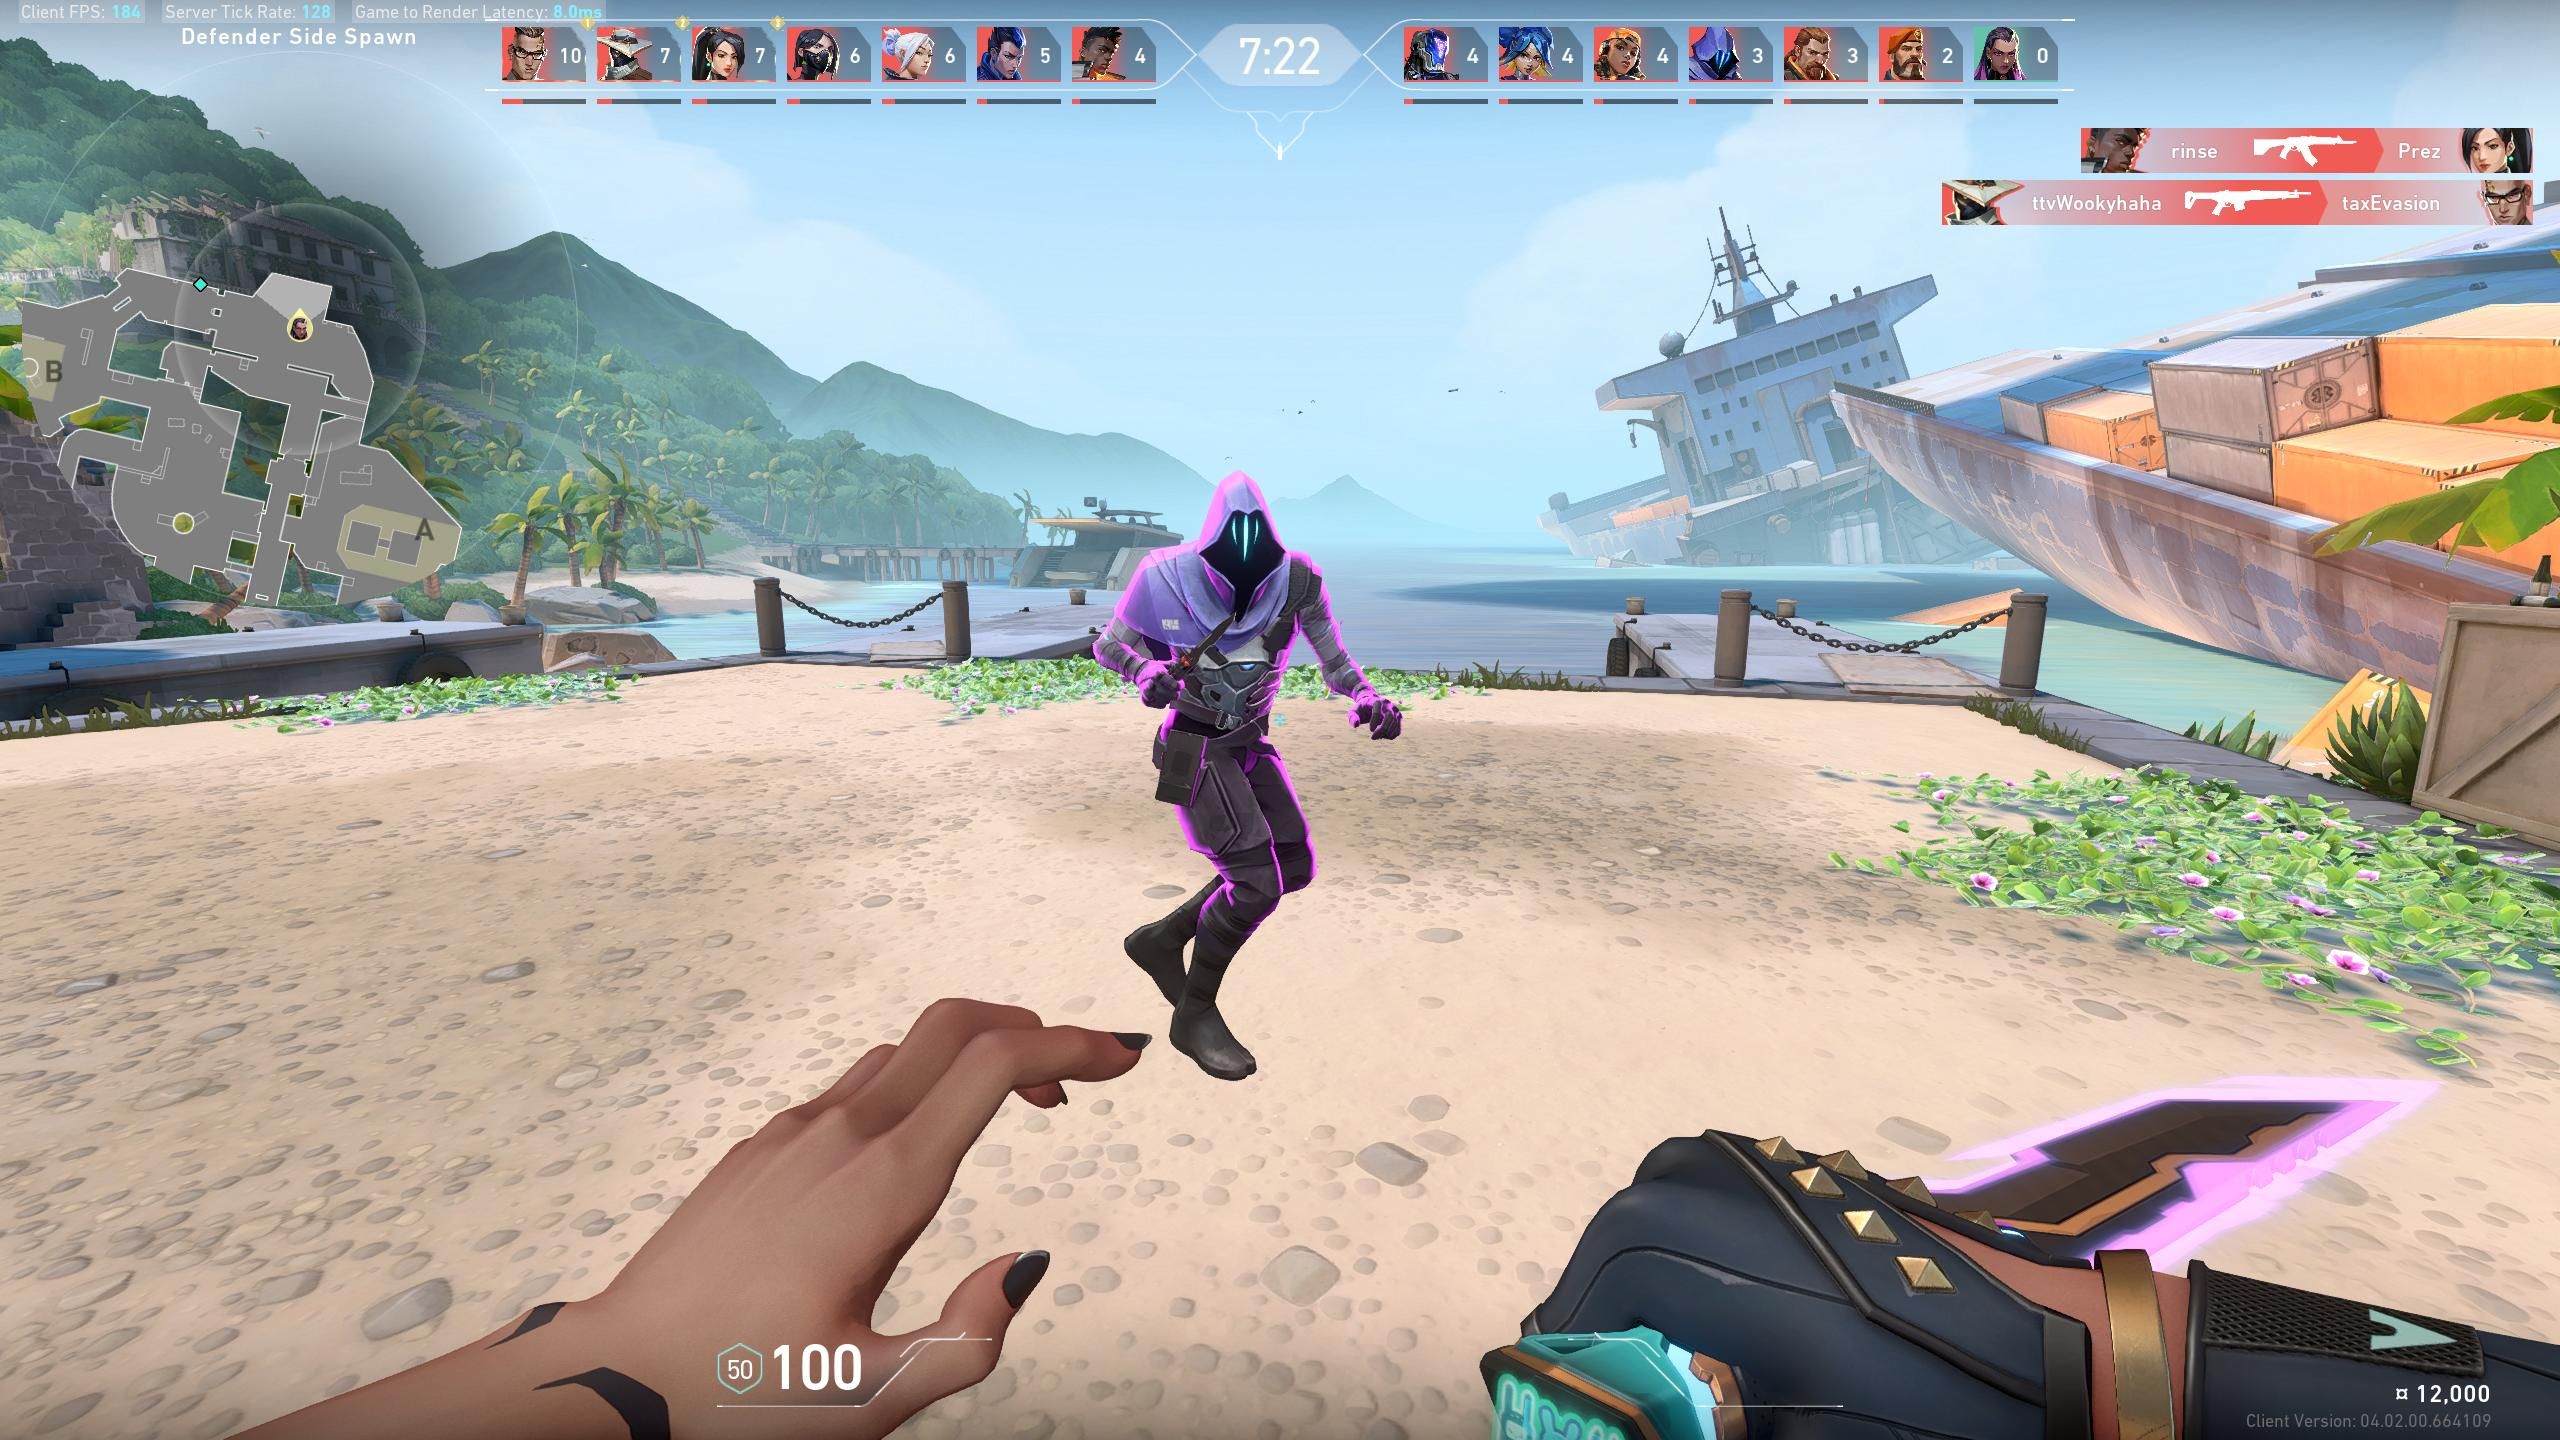enemyBody: (1183, 585, 1266, 710)
enemyHead: (1215, 499, 1261, 570)
